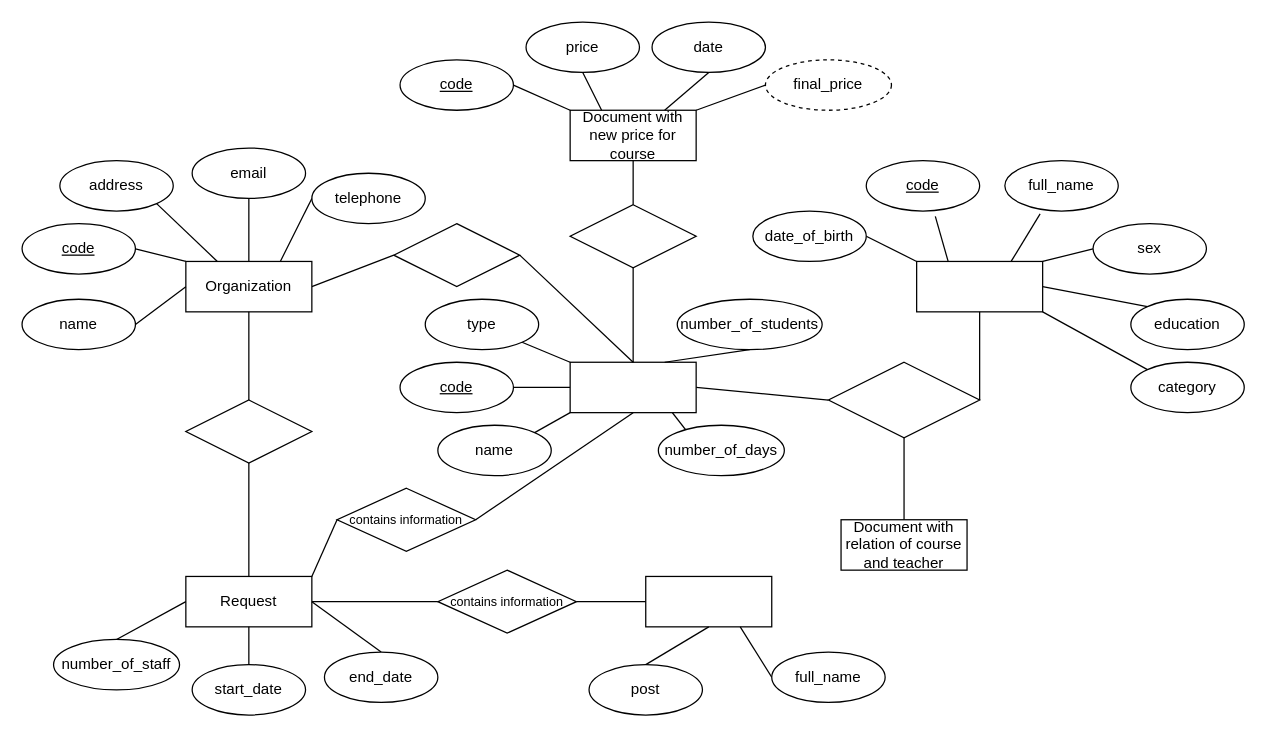
The diagram is 1266 pixels wide and 737 high, and some of its shapes have lost their labels. Here are the shapes that lost their labels. From the top down, the centre of each, then its label:
At point 456,254: "perform".
At point 632,235: "establish price".
At point 979,286: "Teacher".
At point 632,387: "Course".
At point 903,399: "has".
At point 248,431: "create".
At point 708,601: "Staff".
